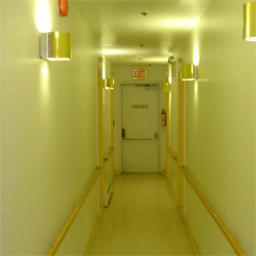Puerta: (121, 82, 161, 174)
